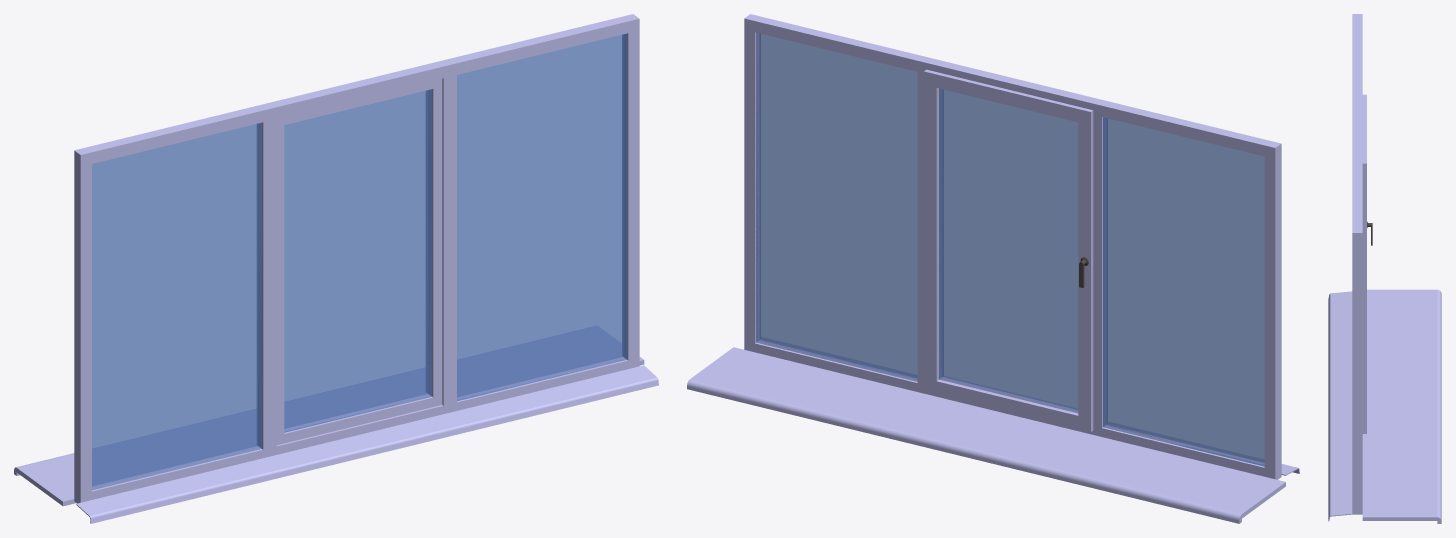
Rendered from glassWindow.fbx.
3 views of the same model, side by side, from view 1: azimuth 30°, elevation 25°; view 2: azimuth 150°, elevation 25°; view 3: azimuth 270°, elevation 25° (orthographic). The views are drawn at different scales.
Parts seen in each view (by area): view 1: Group4, Group5, Group7, Group6, Group2, Group1; view 2: Group5, Group4, Group7, Group6, Group2, Group1; view 3: Group2, Group7, Group1.
Part boxes in pixels (bbox=[...]): Group4: bbox=[457, 33, 627, 401]; Group5: bbox=[92, 122, 261, 489]; Group7: bbox=[74, 14, 639, 503]; Group6: bbox=[284, 89, 431, 432]; Group2: bbox=[14, 326, 644, 506]; Group1: bbox=[76, 365, 658, 523]; Group5: bbox=[1103, 117, 1264, 466]; Group4: bbox=[756, 32, 917, 381]; Group7: bbox=[744, 14, 1281, 479]; Group6: bbox=[939, 88, 1078, 413]; Group2: bbox=[687, 347, 1285, 523]; Group1: bbox=[761, 337, 1299, 475]; Group2: bbox=[1362, 289, 1441, 523]; Group7: bbox=[1352, 14, 1366, 514]; Group1: bbox=[1328, 291, 1352, 521].
Size of the model in its own units: 2.6 by 1.53 by 0.5452.
